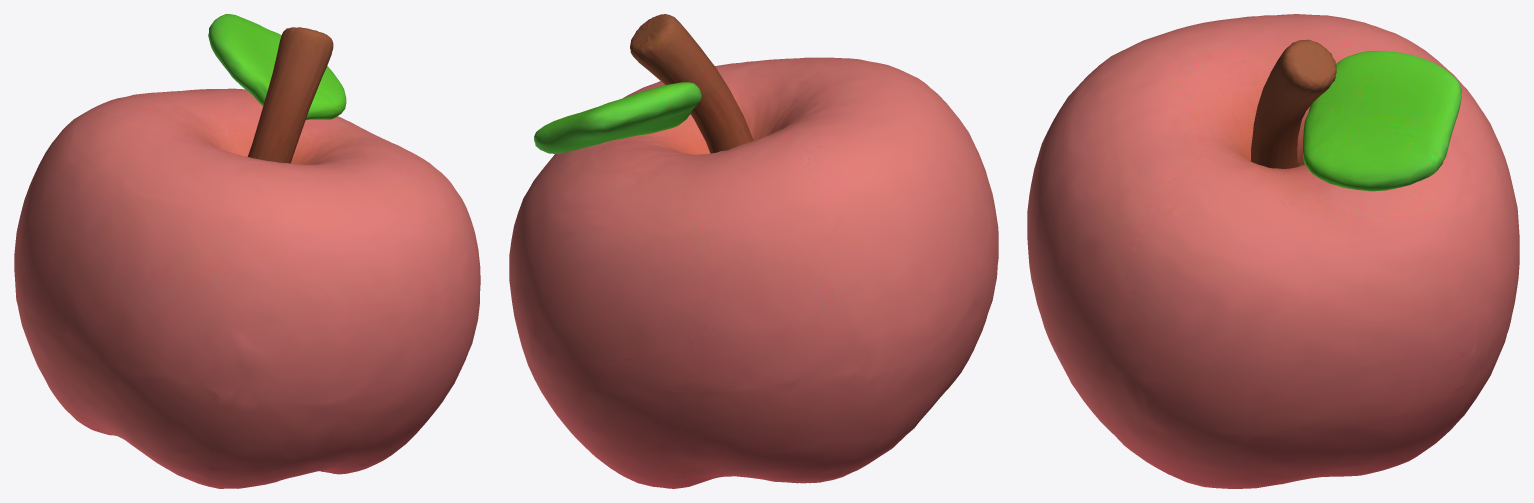
Rendered from apple.glb.
3 renders of one model, left to right at view 1: azimuth 30°, elevation 25°; view 2: azimuth 150°, elevation 25°; view 3: azimuth 270°, elevation 25°, orthographic. The views are drawn at different scales.
Visible parts, largest first — view 1: tripo_node_54e50457-dc9d-4656-a307-90c3ba454d89; view 2: tripo_node_54e50457-dc9d-4656-a307-90c3ba454d89; view 3: tripo_node_54e50457-dc9d-4656-a307-90c3ba454d89.
Boxes of the visible parts, bbox=[...] form: tripo_node_54e50457-dc9d-4656-a307-90c3ba454d89: bbox=[14, 14, 480, 488]; tripo_node_54e50457-dc9d-4656-a307-90c3ba454d89: bbox=[509, 14, 998, 488]; tripo_node_54e50457-dc9d-4656-a307-90c3ba454d89: bbox=[1027, 14, 1519, 488].
Bounding box in the file's own units: 0.9941 × 0.9824 × 0.998.
1 material, 1 textured.
